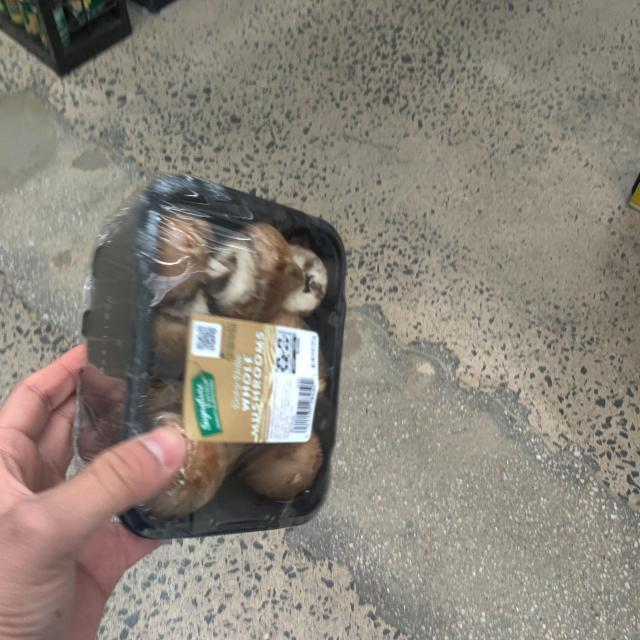mushroom: (87, 185, 349, 532)
